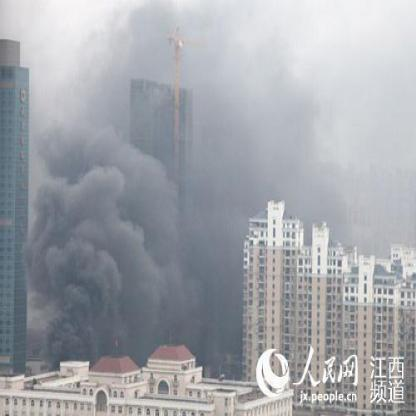smoke: (29, 134, 175, 352)
